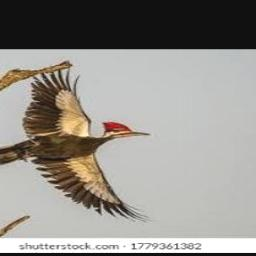Woodpecker: (0, 68, 154, 224)
